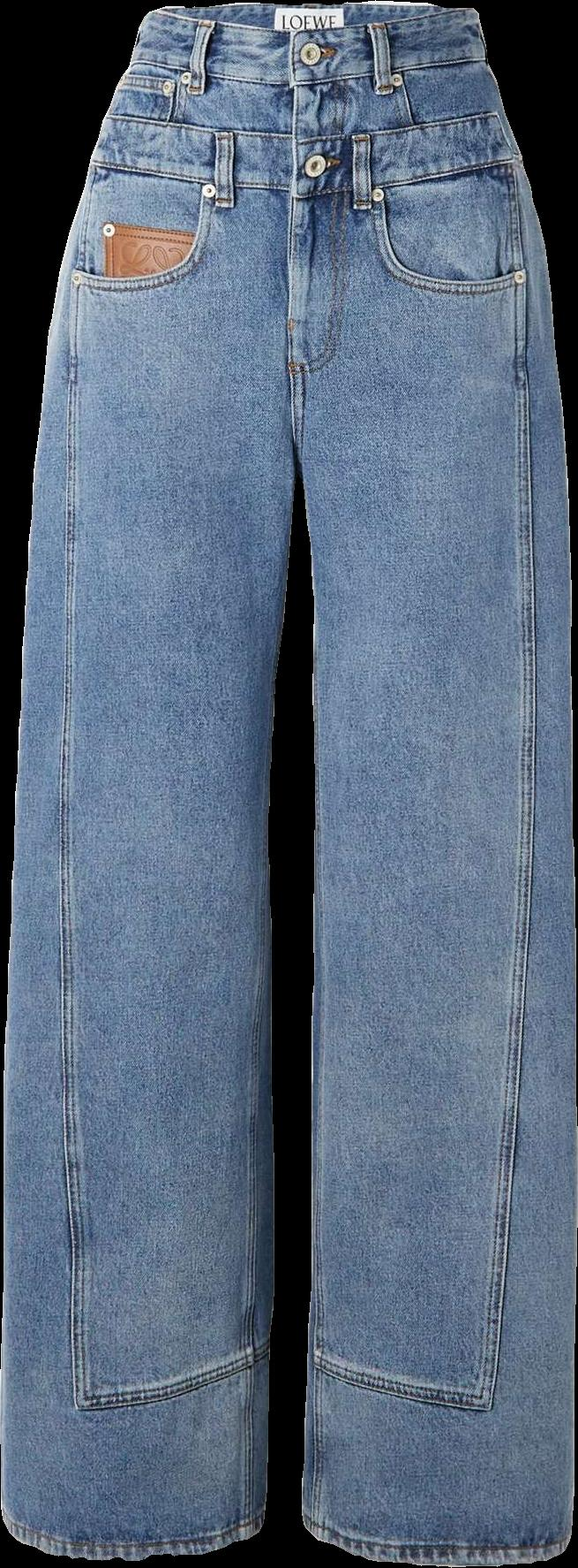Hemline: (0, 1504, 260, 1566), (296, 1512, 574, 1566)
Pantleg: (1, 3, 314, 1561), (289, 2, 577, 1565)
Waistline: (81, 155, 522, 206), (102, 89, 498, 133), (123, 48, 491, 91), (144, 5, 469, 44)
